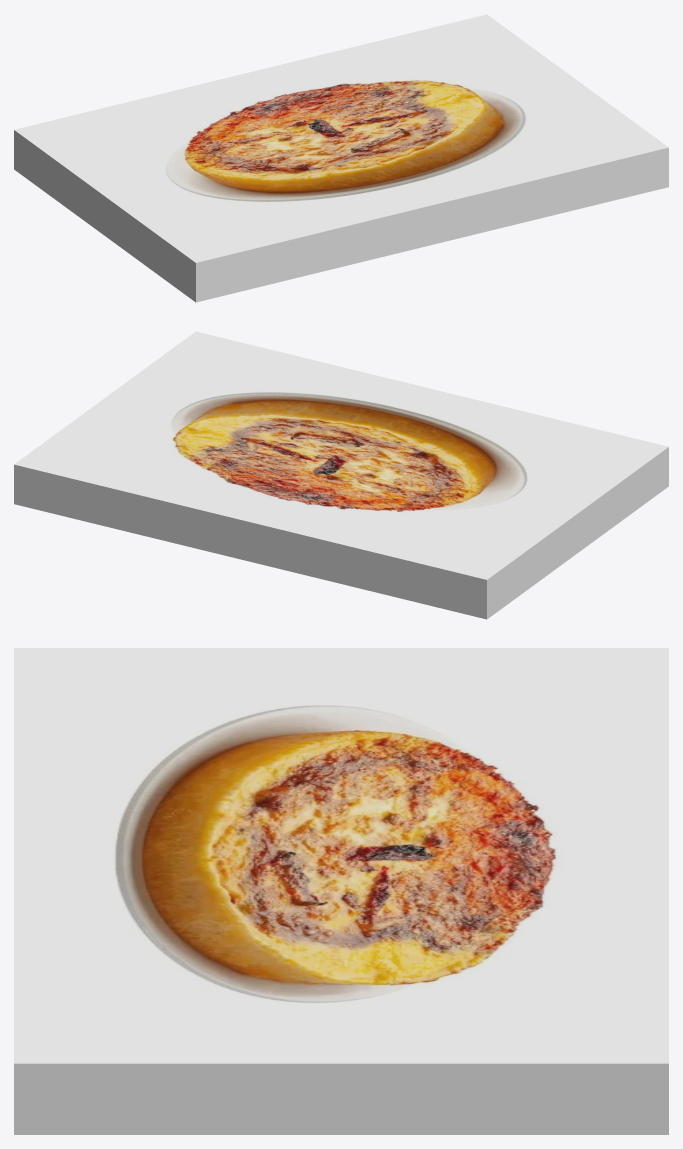
Rendered from empadaodefrangocomtomateseco.glb.
The picture shows the model from 3 angles, top to bottom: view 1: azimuth 30°, elevation 25°; view 2: azimuth 150°, elevation 25°; view 3: azimuth 270°, elevation 25°; orthographic projection. The views are drawn at different scales.
Bounding box in the file's own units: 0.1 × 0.008 × 0.0666.
1 material, 1 textured.
